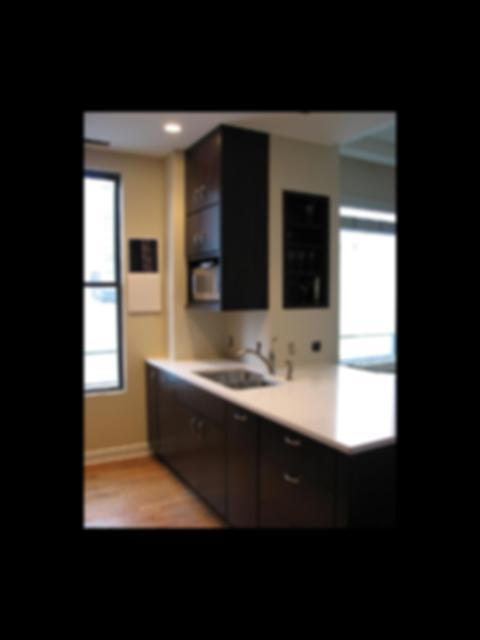Lavaplatos: (191, 334, 304, 397)
